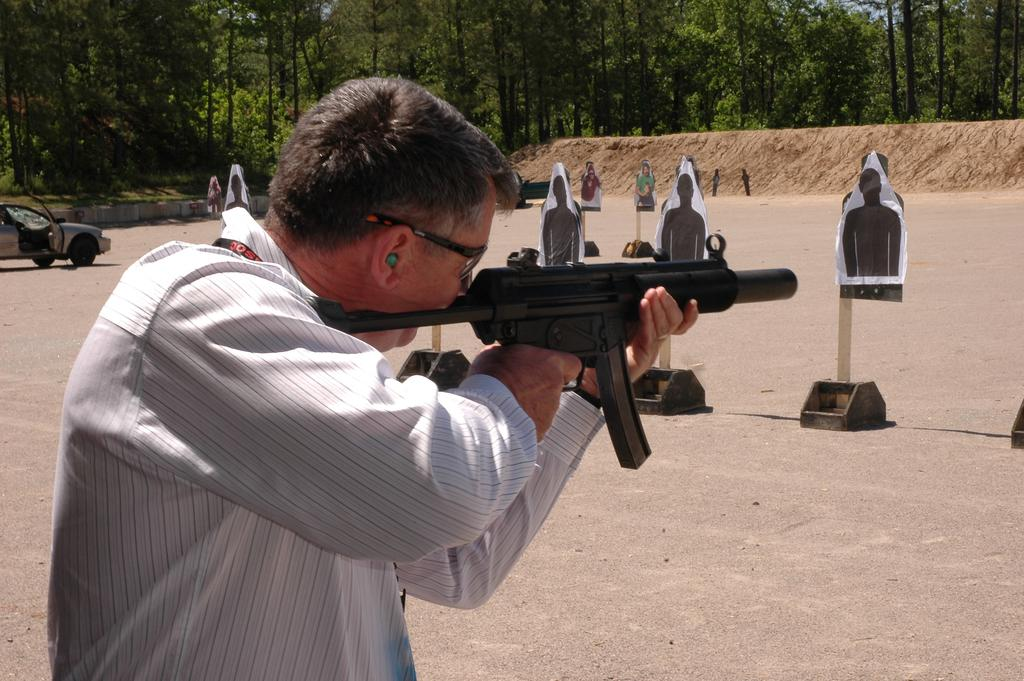Rifle: (313, 247, 799, 472)
